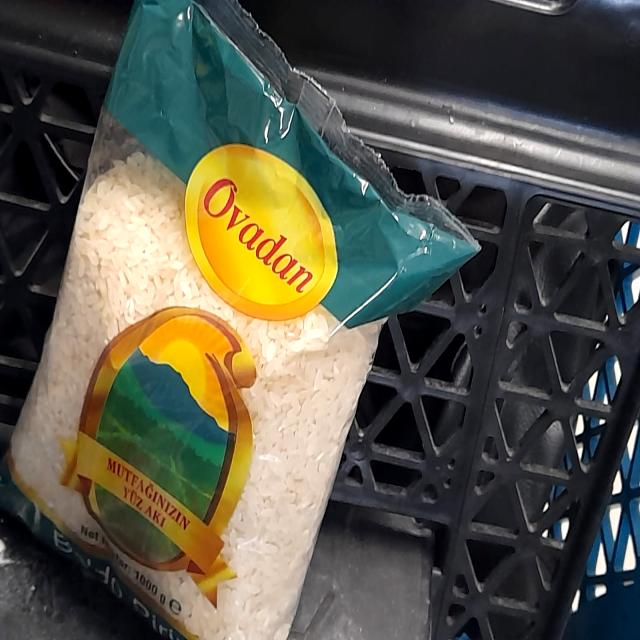rice: (10, 0, 426, 640)
